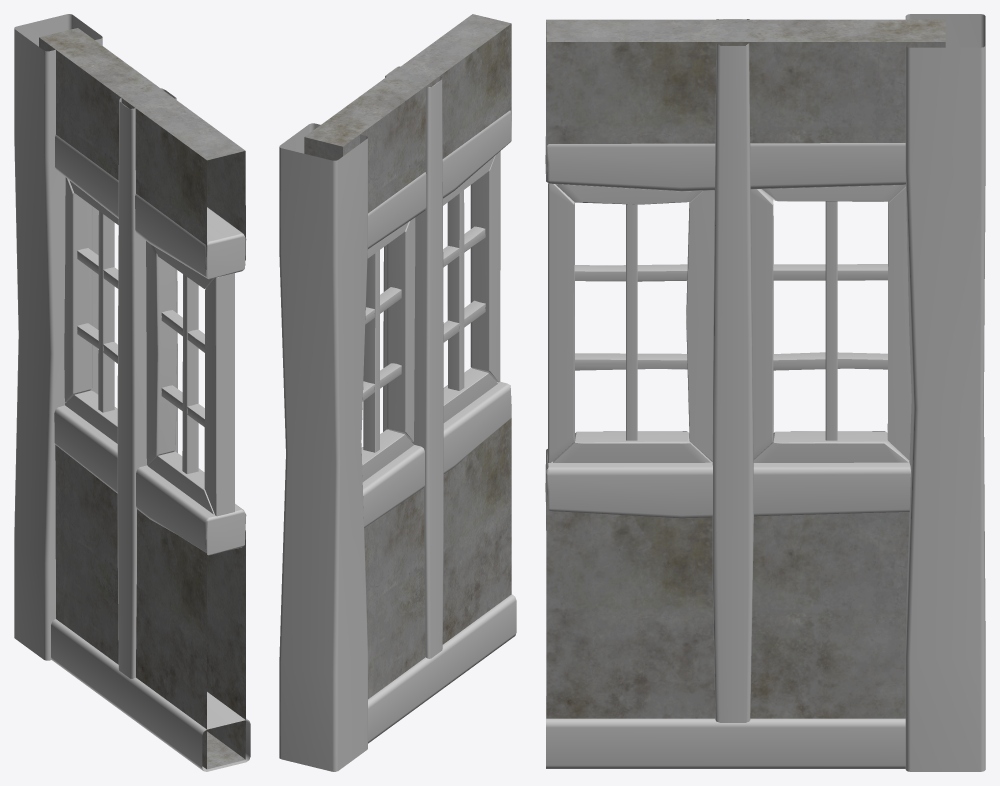
File: SM_WallMedium10.fbx
The picture shows the model from 3 angles, left to right: view 1: azimuth 30°, elevation 25°; view 2: azimuth 150°, elevation 25°; view 3: azimuth 270°, elevation 25°; orthographic projection. The views are drawn at different scales.
Visible parts, largest first — view 1: SM_WallMedium10_LOD0; view 2: SM_WallMedium10_LOD0; view 3: SM_WallMedium10_LOD0.
Boxes of the visible parts, x1,y1,x2,y2 form: SM_WallMedium10_LOD0: [14, 14, 250, 771]; SM_WallMedium10_LOD0: [279, 14, 516, 771]; SM_WallMedium10_LOD0: [545, 14, 985, 771].
Size of the model in its own units: 30 by 165 by 301.
